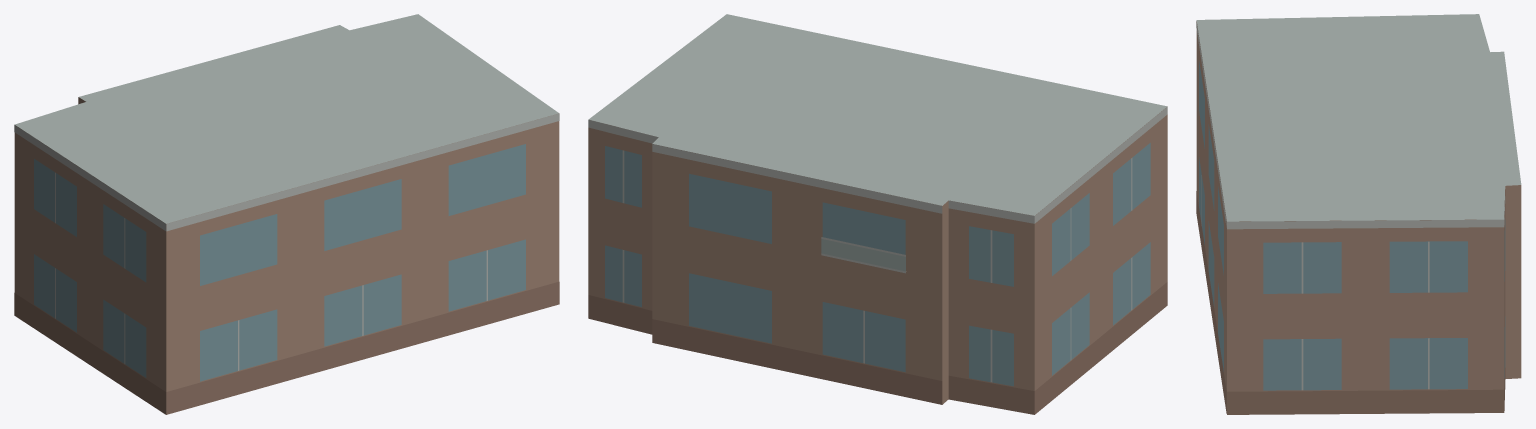
File: survey-upis-32832816.glb
The picture shows the model from 3 angles, left to right: view 1: azimuth 30°, elevation 25°; view 2: azimuth 150°, elevation 25°; view 3: azimuth 270°, elevation 25°; orthographic projection. The views are drawn at different scales.
Visible parts, largest first — view 1: survey-upis-32832816.tmp; view 2: survey-upis-32832816.tmp; view 3: survey-upis-32832816.tmp.
Boxes of the visible parts, x1,y1,x2,y2 form: survey-upis-32832816.tmp: (14,14,559,414); survey-upis-32832816.tmp: (588,14,1167,414); survey-upis-32832816.tmp: (1196,14,1521,414).
Bounding box in the file's own units: 14.05 × 6.1 × 9.3.
